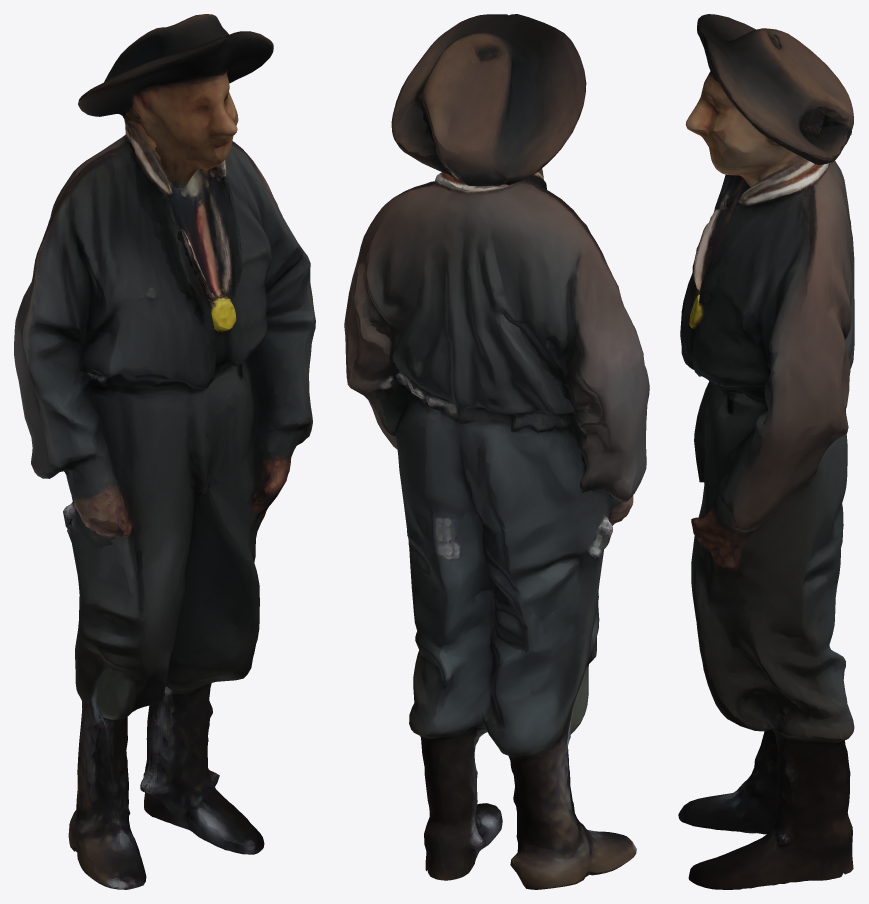
The model's file is figura.glb.
The picture shows the model from 3 angles, left to right: view 1: azimuth 30°, elevation 25°; view 2: azimuth 150°, elevation 25°; view 3: azimuth 270°, elevation 25°; orthographic projection. The views are drawn at different scales.
Parts seen in each view (by area): view 1: geometry_0; view 2: geometry_0; view 3: geometry_0.
Part boxes in pixels (x1,y1,x2,y2): geometry_0: (14, 14, 315, 889); geometry_0: (344, 14, 649, 889); geometry_0: (678, 14, 854, 889).
Size of the model in its own units: 0.3707 by 1 by 0.1916.
1 material, 1 textured.
